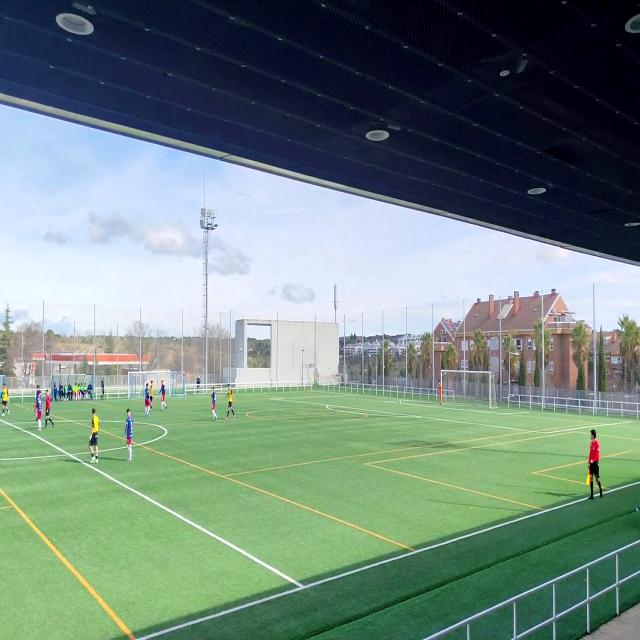bigarea_bottom_inner: (542, 428, 552, 441)
bigarea_bottom_outter: (630, 412, 637, 431)
bigarea_top_inner: (269, 393, 272, 402)
bottom_arc_area_intersection: (421, 413, 429, 424)
corner: (309, 388, 312, 392)
halfcircle_bottom: (64, 448, 78, 465)
halfcircle_top: (5, 417, 15, 432)
midline_bottom_intersection: (298, 576, 310, 601)
smallarea_bottom_inner: (502, 411, 507, 417)
smallarea_bottom_outter: (528, 408, 533, 417)
smallarea_top_inner: (382, 399, 385, 404)
smallarea_top_outter: (409, 397, 412, 404)
top_arc_area_intersection: (326, 399, 331, 413)
